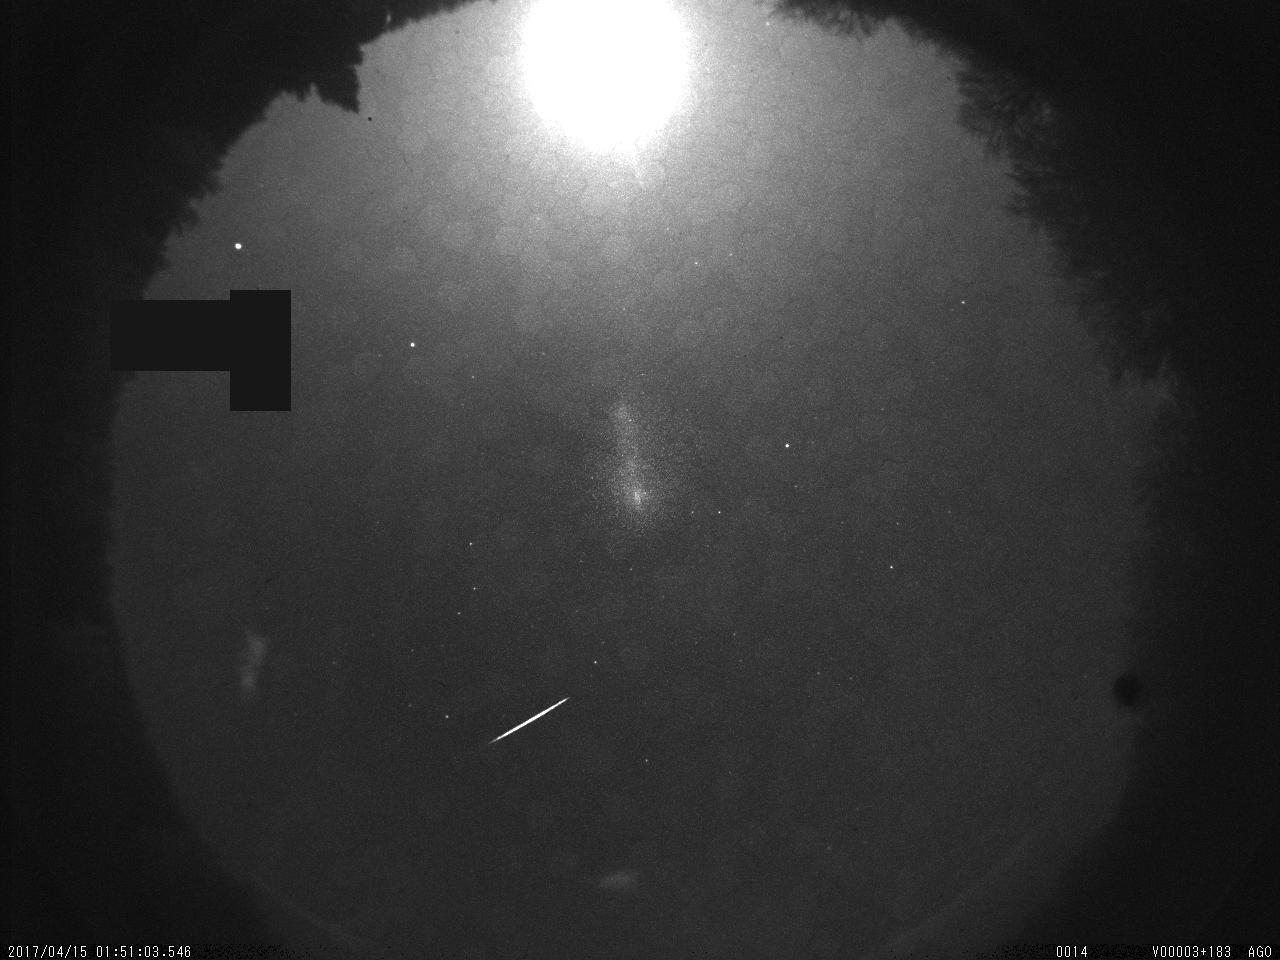meteor: (479, 697, 579, 748)
